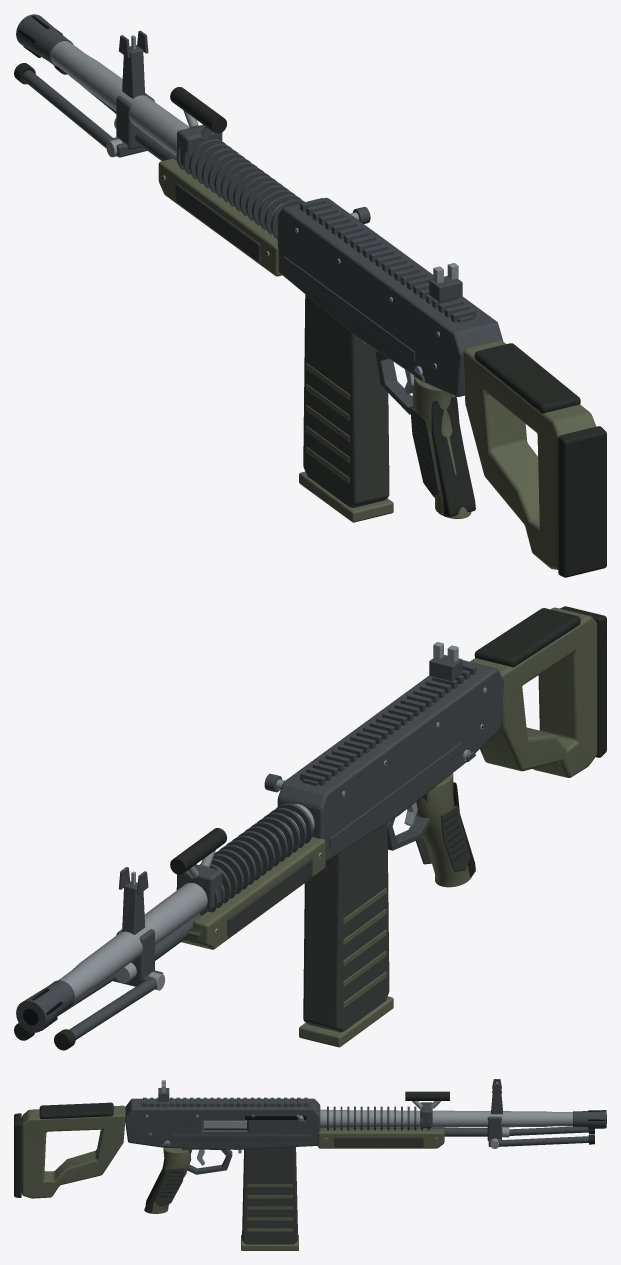
File: titan.glb
The picture shows the model from 3 angles, top to bottom: view 1: azimuth 30°, elevation 25°; view 2: azimuth 150°, elevation 25°; view 3: azimuth 270°, elevation 25°; orthographic projection. The views are drawn at different scales.
Visible parts, largest first — view 1: Titan_Static_Treated graphite, Titan_Receiver, Titan_Magazine, Titan_Stock, Titan_Buttpad, Titan_Static_Dense rubber, Titan_Barrel, Titan_CheekRest, Titan_Handguard, Titan_Static_Grip stipple, Titan_Grip, Titan_MagazineFloorplate (+1 smaller); view 2: Titan_Static_Treated graphite, Titan_Receiver, Titan_Magazine, Titan_Stock, Titan_Barrel, Titan_Handguard, Titan_Static_Grip stipple, Titan_CheekRest, Titan_Grip, Titan_Static_Dense rubber, Titan_Buttpad, Titan_MagazineFloorplate (+1 smaller); view 3: Titan_Static_Treated graphite, Titan_Receiver, Titan_Stock, Titan_Magazine, Titan_Barrel, Titan_Static_Grip stipple, Titan_Handguard, Titan_Static_Dense rubber, Titan_CheekRest, Titan_Grip, Titan_Buttpad, Titan_Static_Recess shadow (+3 smaller).
Part boxes in pixels (box(x1,y1,x2,y2)): Titan_Static_Treated graphite: box(16, 14, 476, 414); Titan_Receiver: box(277, 197, 502, 396); Titan_Magazine: box(303, 294, 389, 507); Titan_Stock: box(463, 340, 596, 569); Titan_Buttpad: box(558, 426, 606, 577); Titan_Static_Dense rubber: box(14, 63, 475, 516); Titan_Barrel: box(50, 41, 282, 217); Titan_CheekRest: box(474, 343, 580, 413); Titan_Handguard: box(158, 158, 281, 276); Titan_Static_Grip stipple: box(175, 183, 463, 496); Titan_Grip: box(412, 376, 471, 518); Titan_MagazineFloorplate: box(299, 471, 393, 522); Titan_Static_Treated graphite: box(16, 655, 476, 1039); Titan_Receiver: box(277, 660, 503, 861); Titan_Magazine: box(303, 823, 389, 1032); Titan_Stock: box(470, 607, 597, 777); Titan_Barrel: box(58, 804, 314, 1001); Titan_Handguard: box(181, 837, 325, 949); Titan_Static_Grip stipple: box(227, 805, 470, 937); Titan_CheekRest: box(474, 608, 580, 667); Titan_Grip: box(415, 773, 470, 887); Titan_Static_Dense rubber: box(14, 782, 475, 1050); Titan_Buttpad: box(560, 606, 606, 757); Titan_MagazineFloorplate: box(299, 996, 393, 1047); Titan_Static_Treated graphite: box(141, 1079, 606, 1174); Titan_Receiver: box(125, 1098, 320, 1149); Titan_Stock: box(21, 1105, 125, 1198); Titan_Magazine: box(242, 1147, 297, 1244); Titan_Barrel: box(320, 1109, 572, 1128); Titan_Static_Grip stipple: box(154, 1137, 423, 1206); Titan_Handguard: box(318, 1127, 444, 1148); Titan_Static_Dense rubber: box(145, 1091, 594, 1213); Titan_CheekRest: box(39, 1102, 113, 1119); Titan_Grip: box(144, 1148, 191, 1213); Titan_Buttpad: box(14, 1113, 21, 1197); Titan_Static_Recess shadow: box(149, 1110, 606, 1139).
Size of the model in its own units: 0.085 by 0.324 by 1.06.
Materials: 7 (7 with a texture image).
